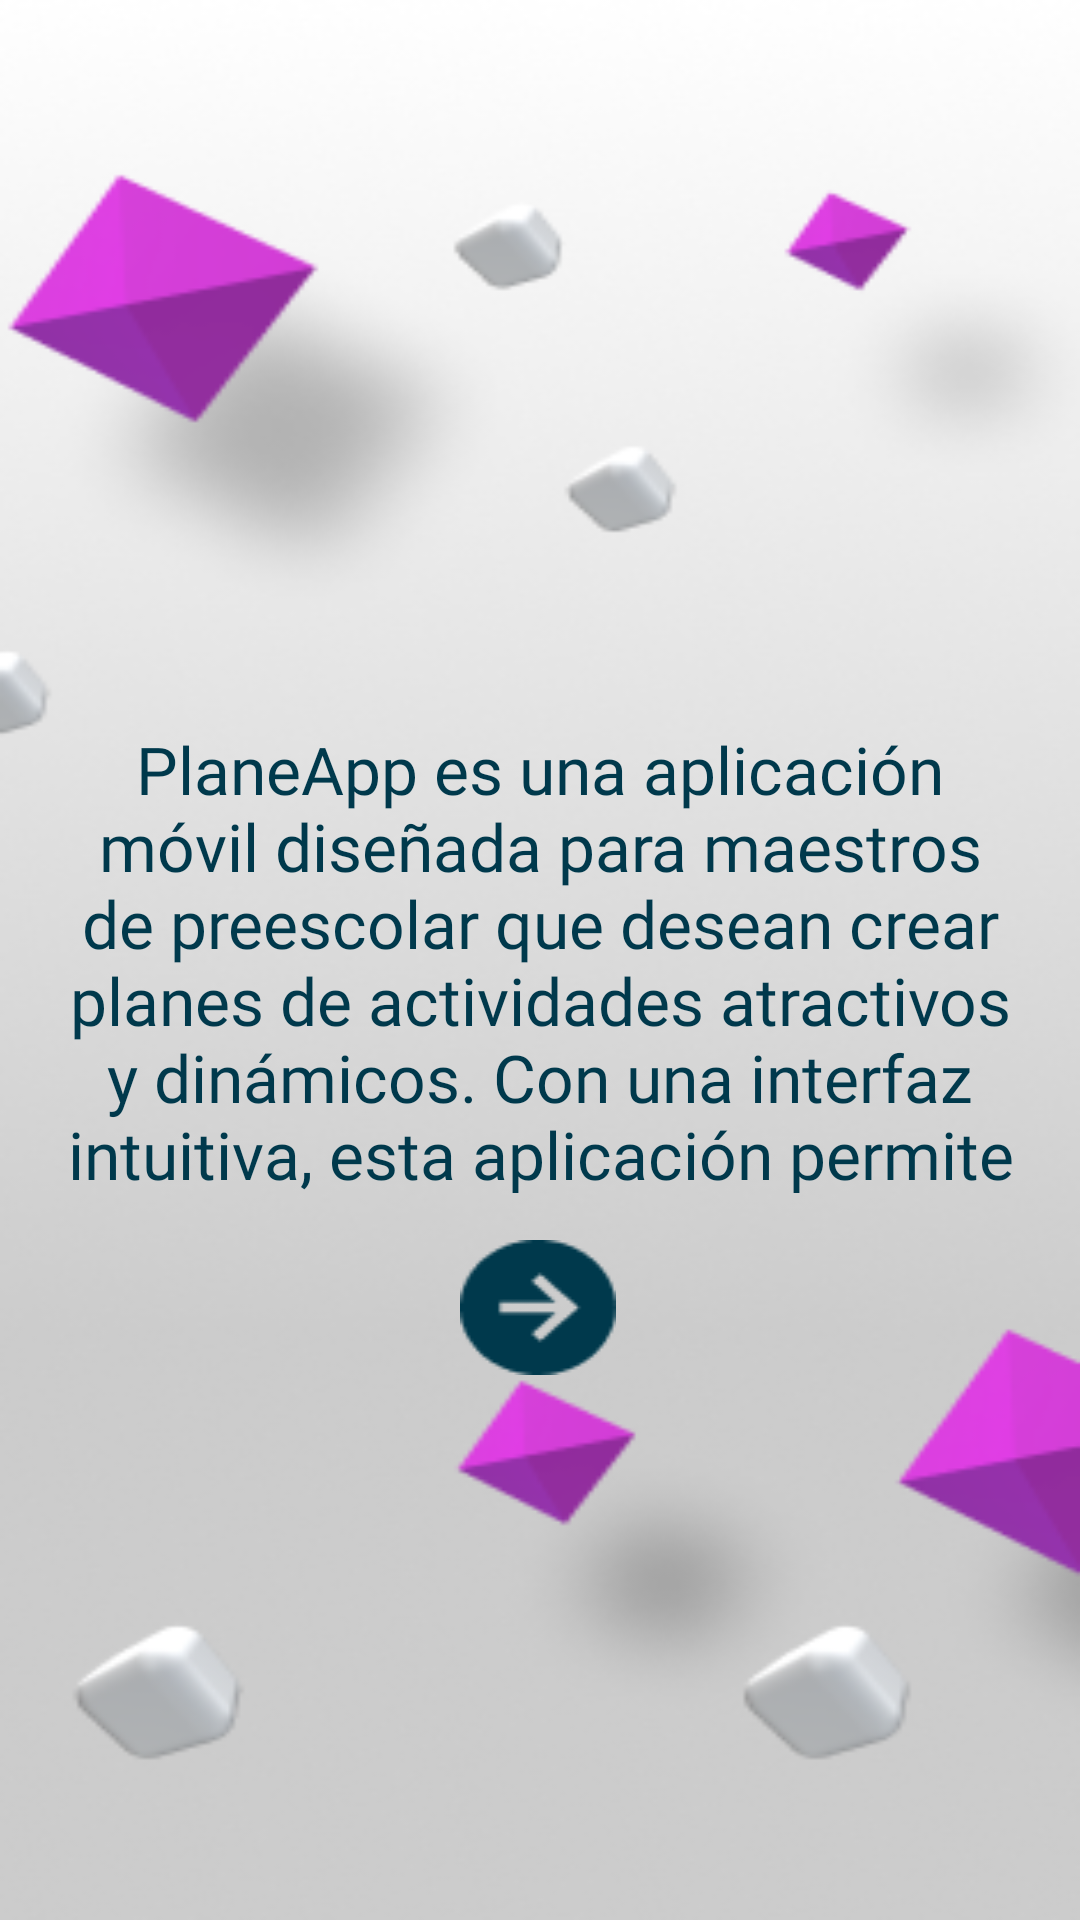

Where icons sit on this 1080px×1920px app screen, as (x1, y1, x2, y2):
next: (460, 1240, 616, 1375)
